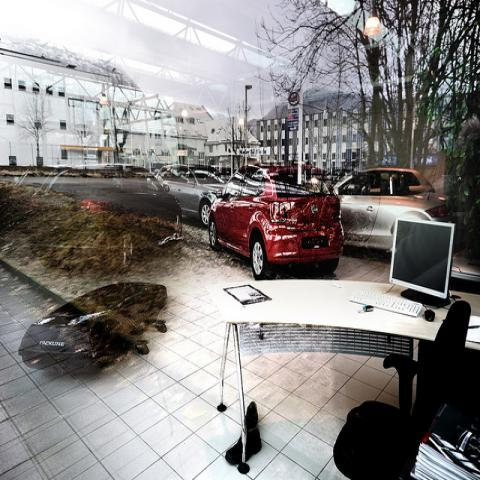car: (17, 164, 182, 276), (206, 161, 344, 279), (332, 167, 452, 256), (155, 163, 224, 228)
